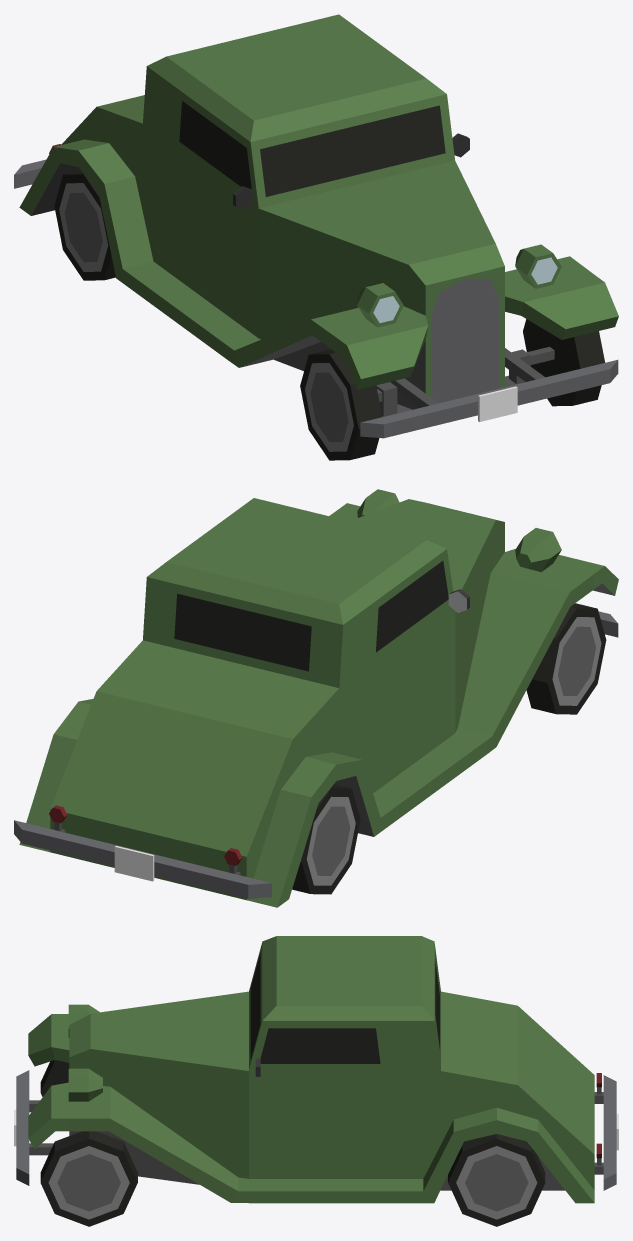
The model's file is Veh_Retro_Car_02_Green.obj.
3 views of the same model, one above another, from view 1: azimuth 30°, elevation 25°; view 2: azimuth 150°, elevation 25°; view 3: azimuth 270°, elevation 25° (orthographic). The views are drawn at different scales.
Bounding box in the file's own units: 0.9825 × 0.8995 × 2.4.
